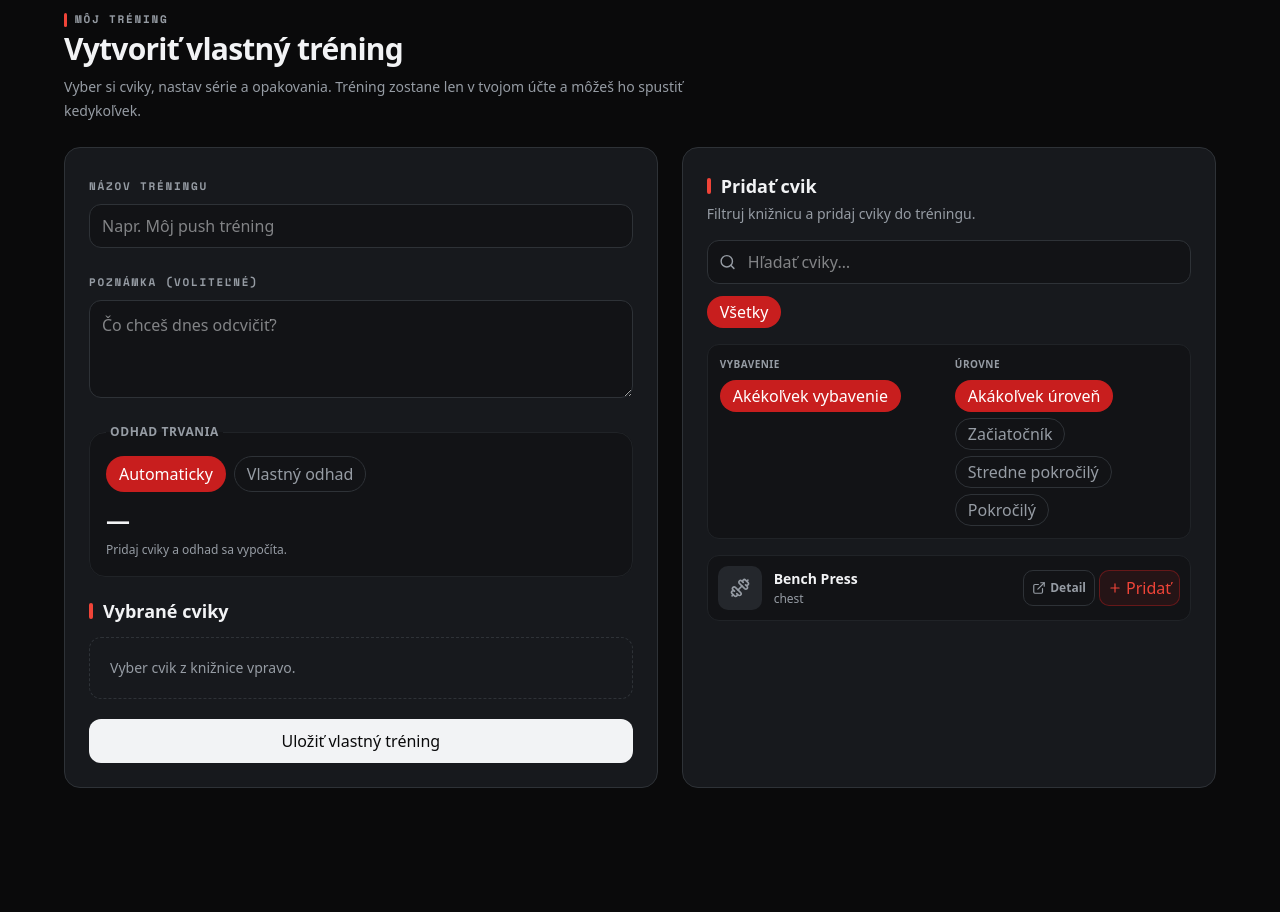
Test: CreateWorkout log_type selector › swaps Opakovania for Trvanie when marked as Čas, seeds a non-null target, and clears it back to reps
The image size is (1280, 912).
What coordinates should you click on to do the following:
click the button with aria-label "Pridať Bench Press"
I would click on:
 (1140, 588)
Its box is [1099,570,1180,606].
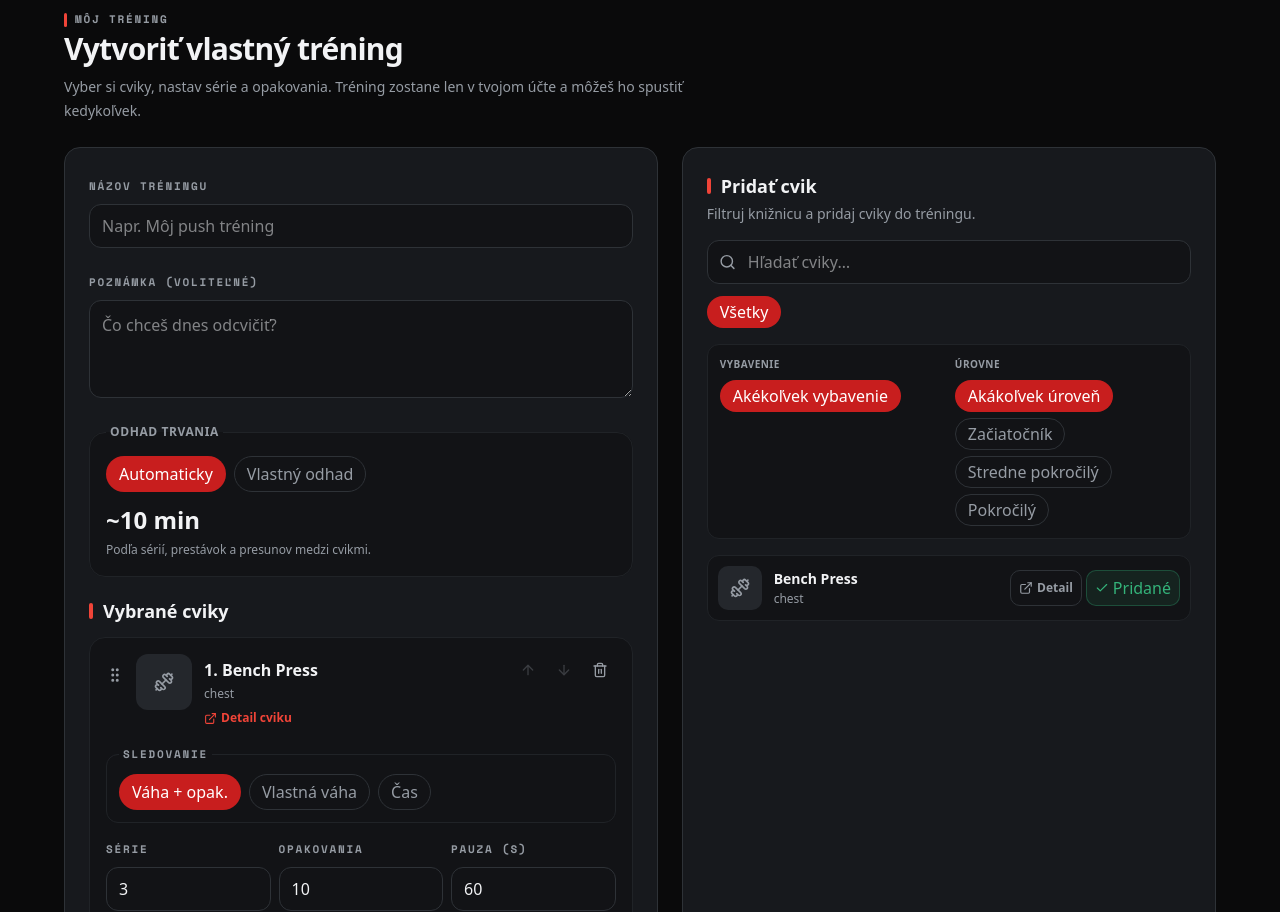
Expected: the field labelled "Trvanie (s)" is not shown
Expected: the field labelled "Opakovania" is shown, [278,867,443,911]
What coordinates should you click on to do the following:
click the button "Čas"
I would click on:
 (404, 792)
Its box is [378,774,431,810].
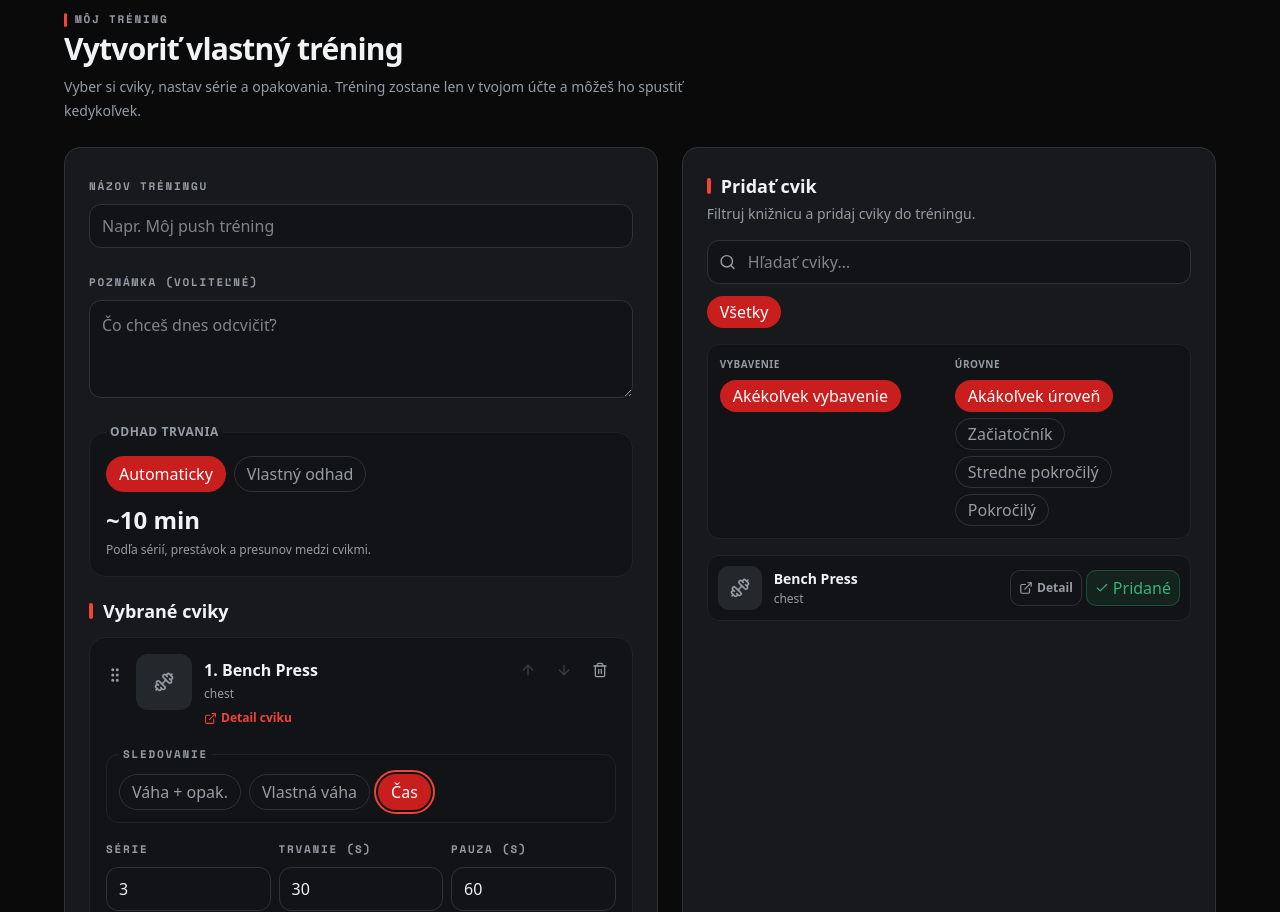
Expected: the number field labelled "Trvanie (s)" holds "30", [278,867,443,911]
What coordinates should you click on to do the following:
click the button "Váha + opak."
I would click on:
 (180, 792)
Its box is [119,774,241,810].
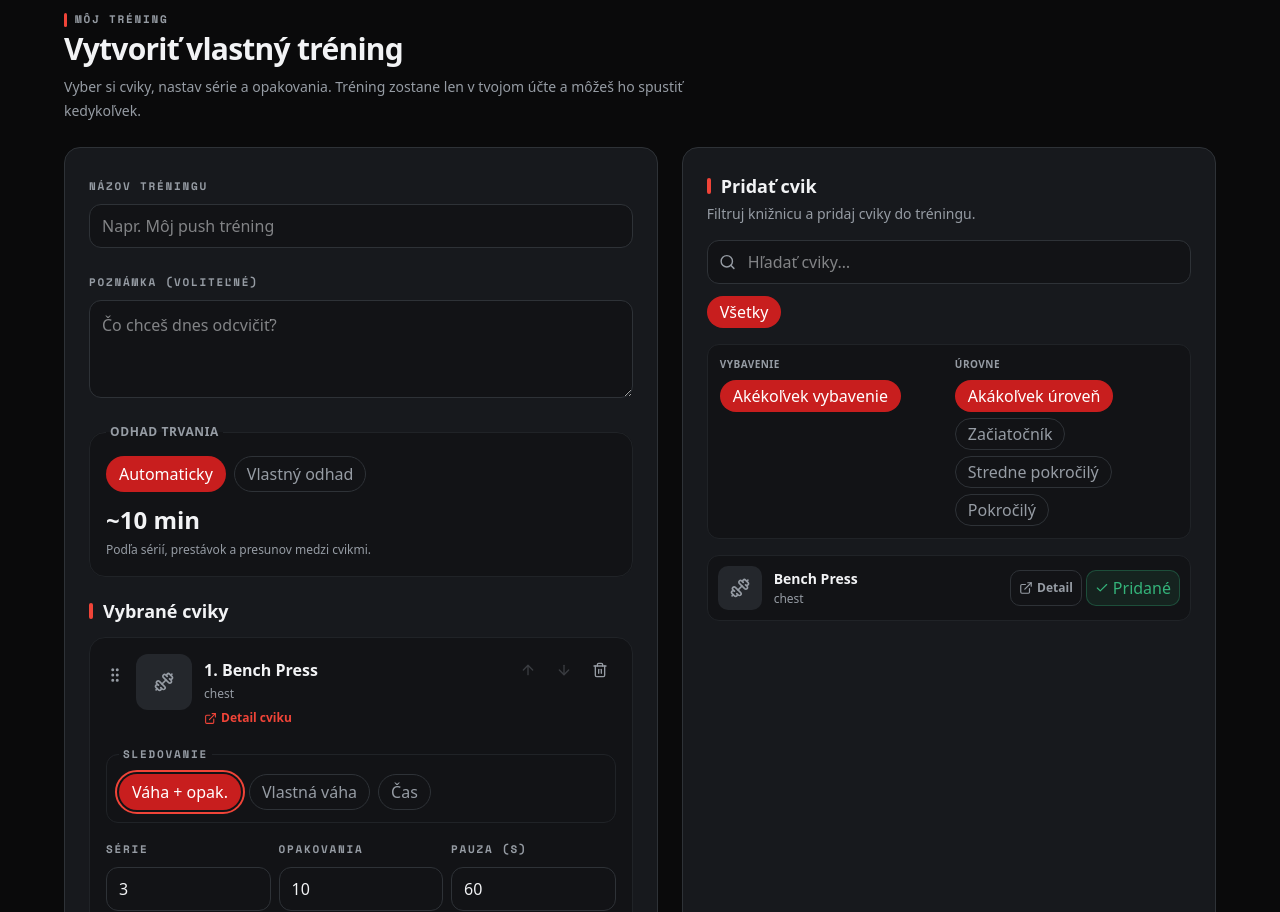
Expected: the field labelled "Opakovania" holds "10", [278,867,443,911]
Expected: the text labelled "Trvanie (s)" is gone
